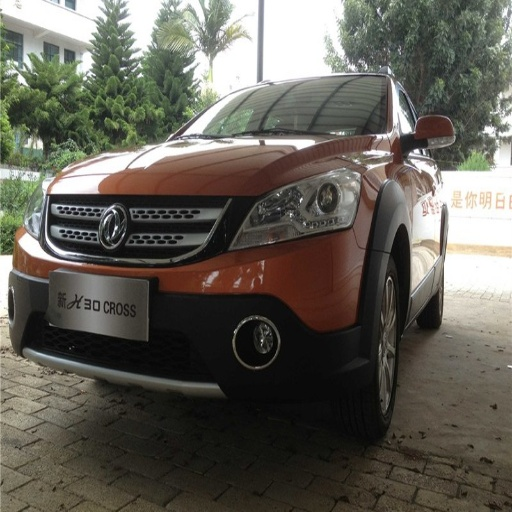front_bumper: (10, 176, 369, 409)
front_glass: (178, 76, 389, 137)
front_left_door: (395, 95, 437, 293)
